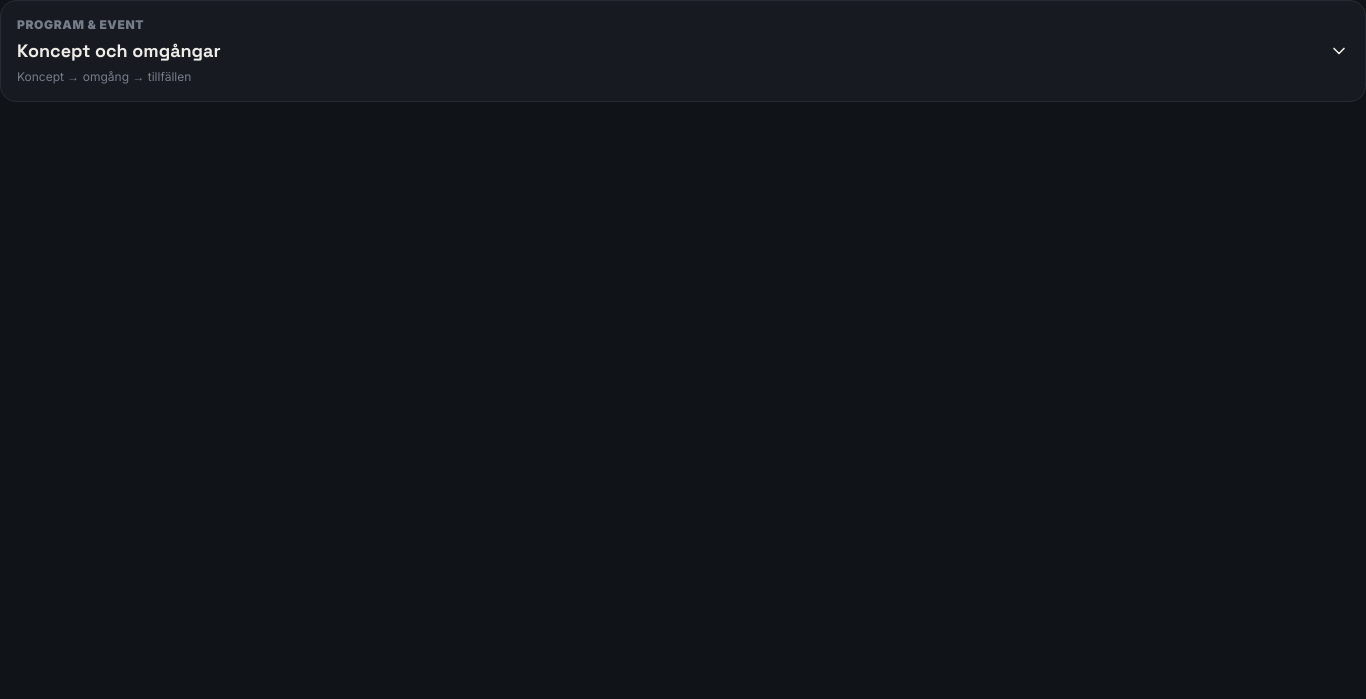
Course V1 Admin › edits the canonical Series product member price and renders the server preview
Later steps or results of the test are not shown.
Click the button "Program" at (81, 24), box 17,17 -> 1349,85
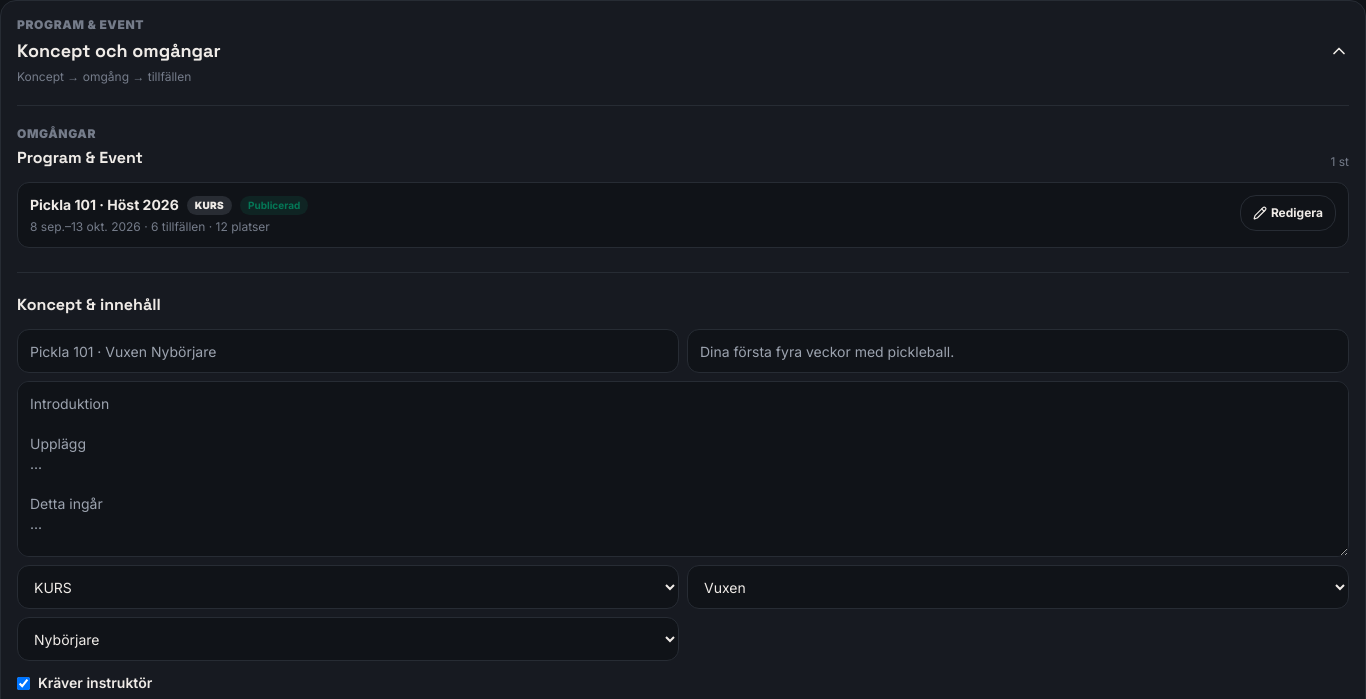
Click the button with aria-label "Redigera omgång Pickla 101 · Höst 2026" at (1288, 213), box 1240,195 -> 1336,231
(page scrolled)
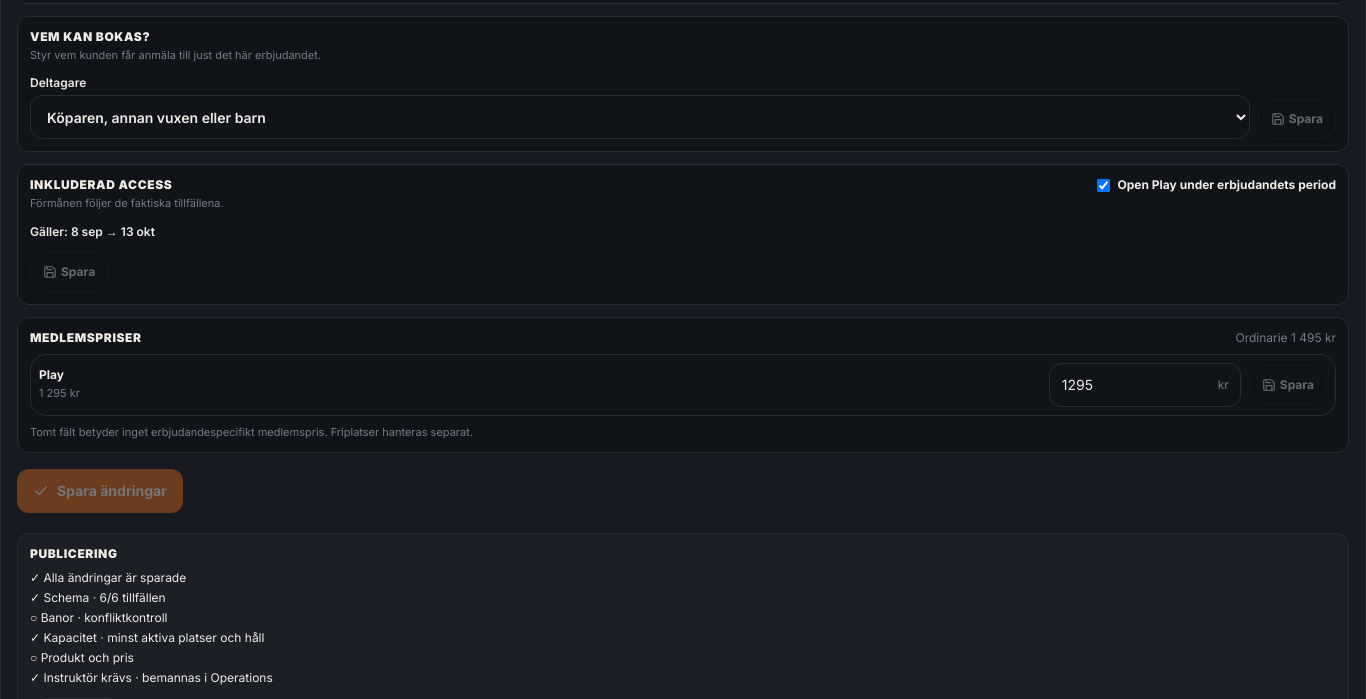
expect the text "Ordinarie 1 495 kr" is shown: met, box 1236,330 -> 1336,346
expect the text "1 295 kr" is shown: met, box 39,386 -> 80,400
